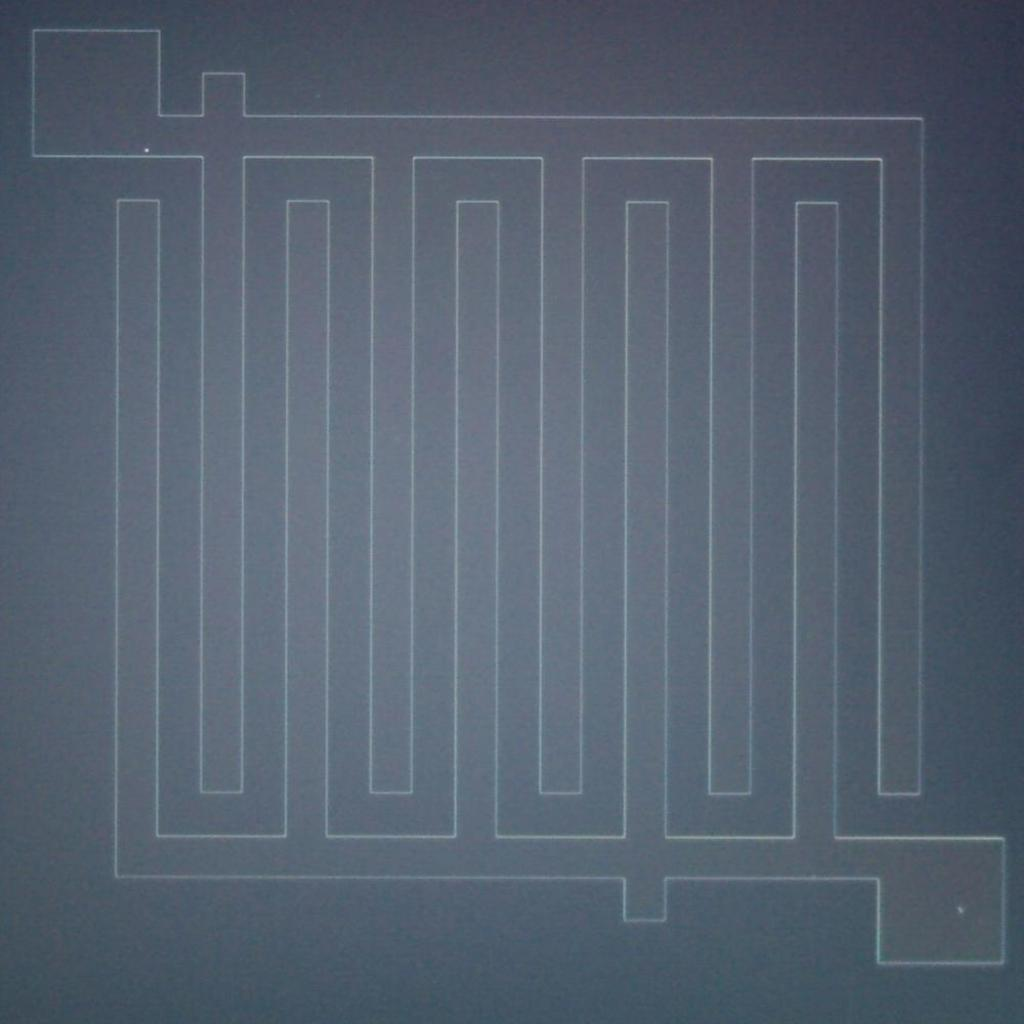budge circuit: (610, 865, 676, 933), (191, 63, 256, 127)
dot: (131, 136, 160, 163)
